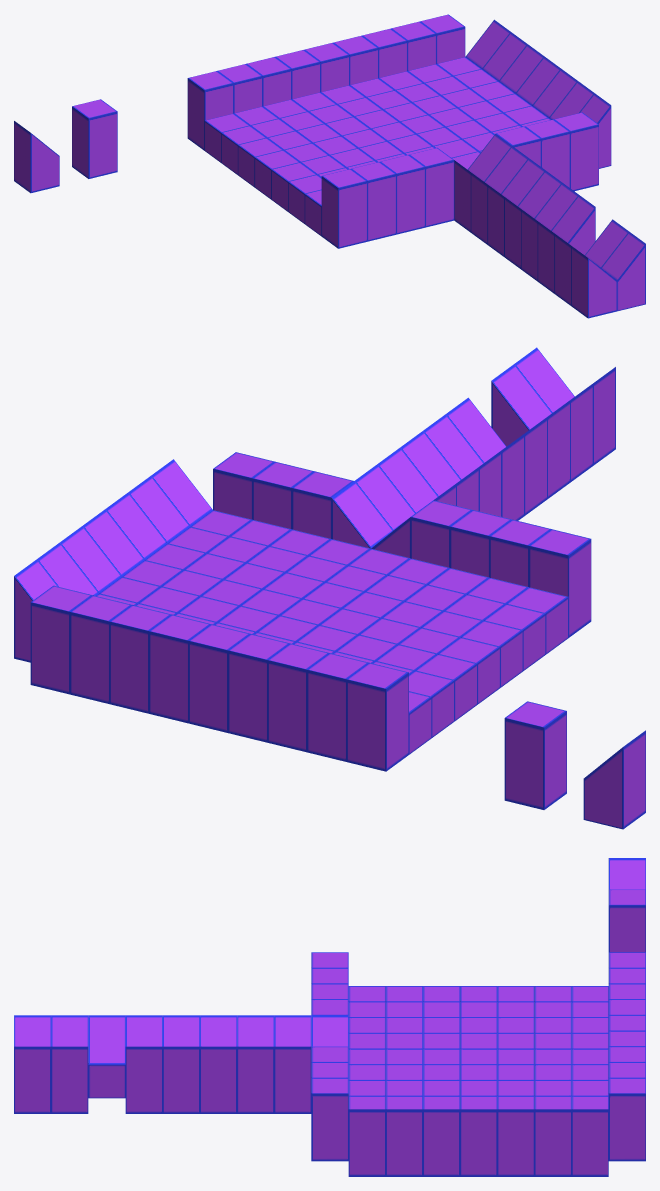
The model's file is level1.glb.
3 renders of one model, top to bottom at view 1: azimuth 30°, elevation 25°; view 2: azimuth 150°, elevation 25°; view 3: azimuth 270°, elevation 25°, orthographic. The views are drawn at different scales.
Visible parts, largest first — view 1: Cube.144, Cube.127, Cube.128, Cube.161, Cube.138, Cube.142, Cube.143, Cube.162, Cube.141, Cube.147, Cube.146, Cube.157 (+77 smaller); view 2: Cube.128, Cube.127, Cube.144, Cube.138, Cube.134, Cube.136, Cube.130, Cube.132, Cube.133, Cube.129, Cube.135, Cube.131 (+76 smaller); view 3: Cube.147, Cube.159, Cube.136, Cube.164, Cube.165, Cube.166, Cube.167, Cube.169, Cube.170, Cube.149, Cube.151, Cube.155 (+85 smaller).
Boxes of the visible parts, x1=… form: Cube.144: x1=321, y1=169, x2=367, y2=248; Cube.127: x1=72, y1=99, x2=117, y2=178; Cube.128: x1=187, y1=71, x2=233, y2=150; Cube.161: x1=571, y1=246, x2=616, y2=318; Cube.138: x1=14, y1=121, x2=59, y2=193; Cube.142: x1=380, y1=155, x2=425, y2=234; Cube.143: x1=351, y1=162, x2=396, y2=241; Cube.162: x1=601, y1=231, x2=645, y2=311; Cube.141: x1=409, y1=147, x2=454, y2=227; Cube.147: x1=553, y1=112, x2=598, y2=191; Cube.146: x1=525, y1=119, x2=569, y2=187; Cube.157: x1=551, y1=195, x2=595, y2=254; Cube.128: x1=346, y1=662, x2=408, y2=771; Cube.127: x1=504, y1=701, x2=566, y2=809; Cube.144: x1=529, y1=529, x2=591, y2=637; Cube.138: x1=583, y1=730, x2=645, y2=829; Cube.134: x1=109, y1=605, x2=171, y2=713; Cube.136: x1=30, y1=585, x2=92, y2=694; Cube.130: x1=267, y1=643, x2=329, y2=752; Cube.132: x1=188, y1=624, x2=250, y2=732; Cube.133: x1=149, y1=614, x2=210, y2=723; Cube.129: x1=307, y1=653, x2=368, y2=761; Cube.135: x1=70, y1=595, x2=131, y2=703; Cube.131: x1=228, y1=634, x2=289, y2=742; Cube.147: x1=311, y1=1078, x2=348, y2=1161; Cube.159: x1=88, y1=1015, x2=125, y2=1098; Cube.136: x1=608, y1=1078, x2=645, y2=1161; Cube.164: x1=571, y1=1109, x2=608, y2=1176; Cube.165: x1=534, y1=1109, x2=571, y2=1176; Cube.166: x1=497, y1=1109, x2=534, y2=1176; Cube.167: x1=460, y1=1109, x2=497, y2=1176; Cube.169: x1=385, y1=1109, x2=422, y2=1176; Cube.170: x1=348, y1=1109, x2=385, y2=1176; Cube.149: x1=274, y1=1046, x2=311, y2=1113; Cube.151: x1=237, y1=1046, x2=274, y2=1113; Cube.155: x1=162, y1=1046, x2=199, y2=1113.
Bounding box in the file's own units: 32 × 4 × 34.
Materials: 1 (1 with a texture image).
